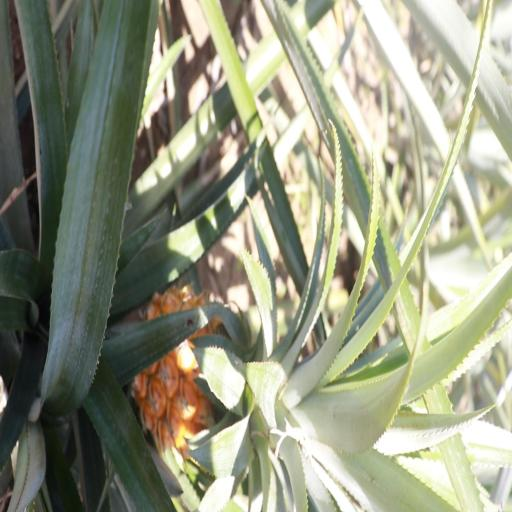Pineapple - v8 v1: (128, 293, 414, 481)
